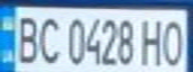0: (63, 14, 84, 66)
2: (100, 14, 121, 66)
4: (81, 14, 103, 66)
8: (115, 15, 139, 66)
B: (9, 11, 42, 65)
C: (33, 12, 63, 65)
H: (139, 15, 166, 66)
O: (160, 15, 190, 67)
